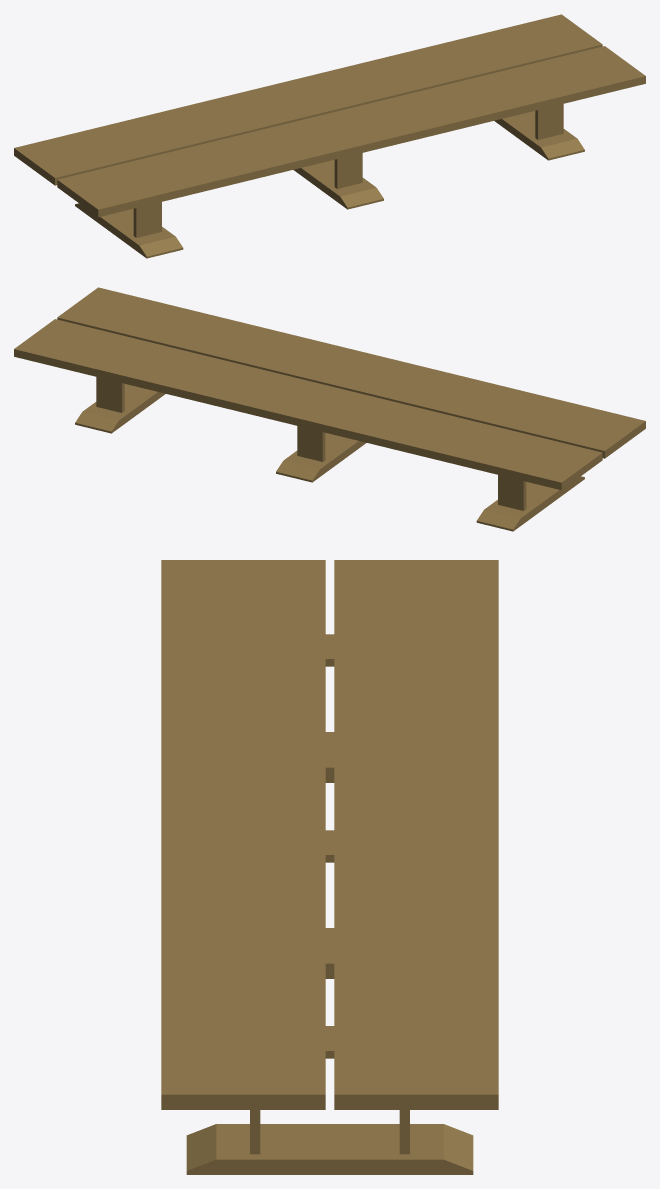
The model's file is 420_ロング座卓.glb.
The picture shows the model from 3 angles, top to bottom: view 1: azimuth 30°, elevation 25°; view 2: azimuth 150°, elevation 25°; view 3: azimuth 270°, elevation 25°; orthographic projection. The views are drawn at different scales.
Visible parts, largest first — view 1: 420_ロング座卓; view 2: 420_ロング座卓; view 3: 420_ロング座卓.
Boxes of the visible parts, x1,y1,x2,y2 form: 420_ロング座卓: (14,14,645,258); 420_ロング座卓: (14,287,645,531); 420_ロング座卓: (161,560,498,1174).
Bounding box in the file's own units: 3 × 0.35 × 0.8.
